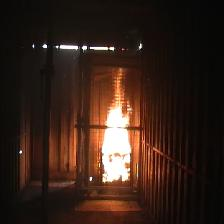fire: (102, 69, 132, 182)
